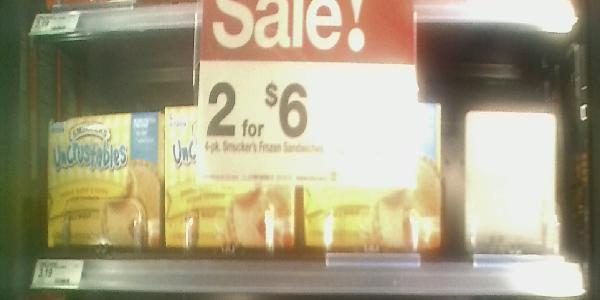icecream: (302, 106, 437, 255), (166, 101, 295, 254), (45, 105, 161, 249)
